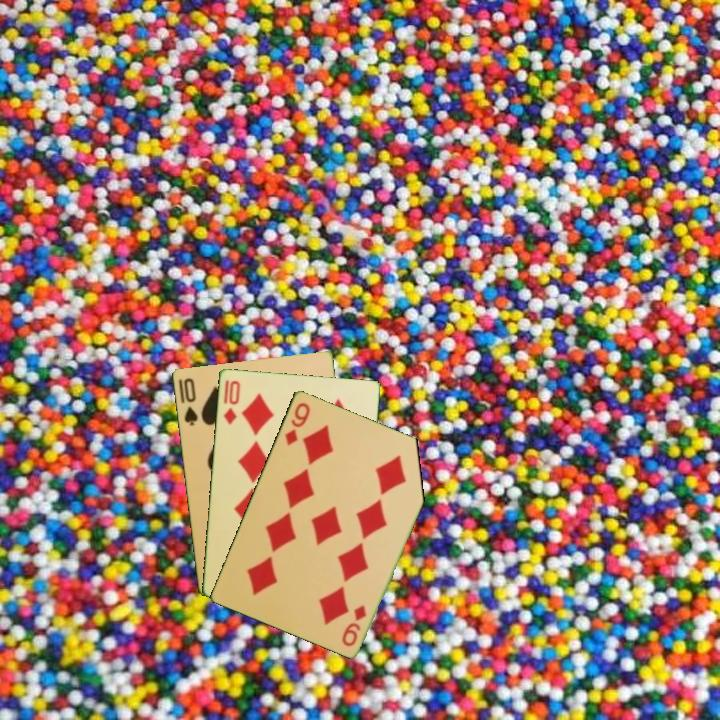10d: (220, 377, 243, 427)
10s: (180, 374, 200, 428)
9d: (281, 399, 313, 448), (338, 601, 369, 649)
